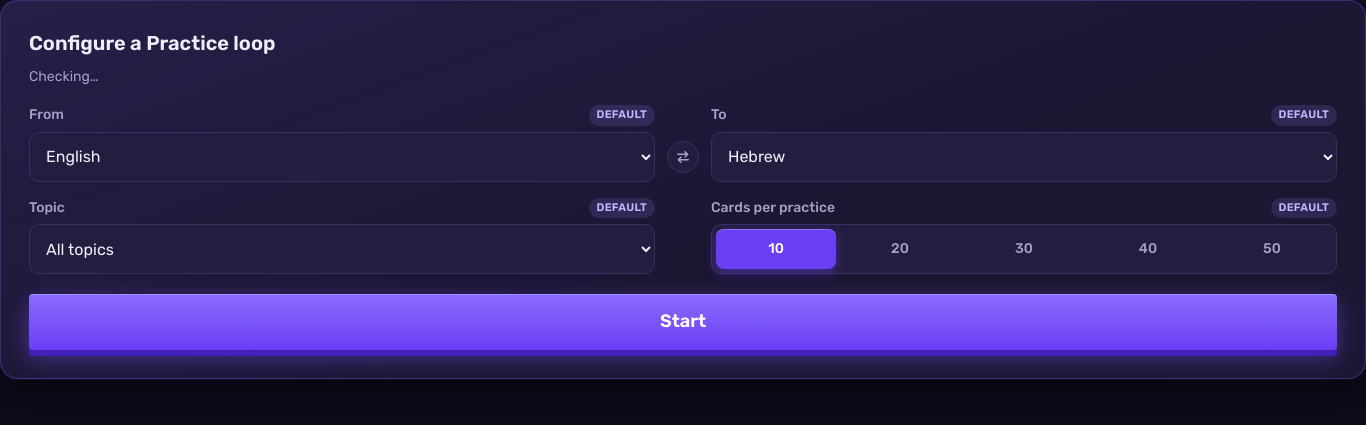
Scenario: StartCard › switches From and To, and disables the switch when they match (D-055)
Click the button named "Switch From and To" at (683, 156), box [667,140,699,172]
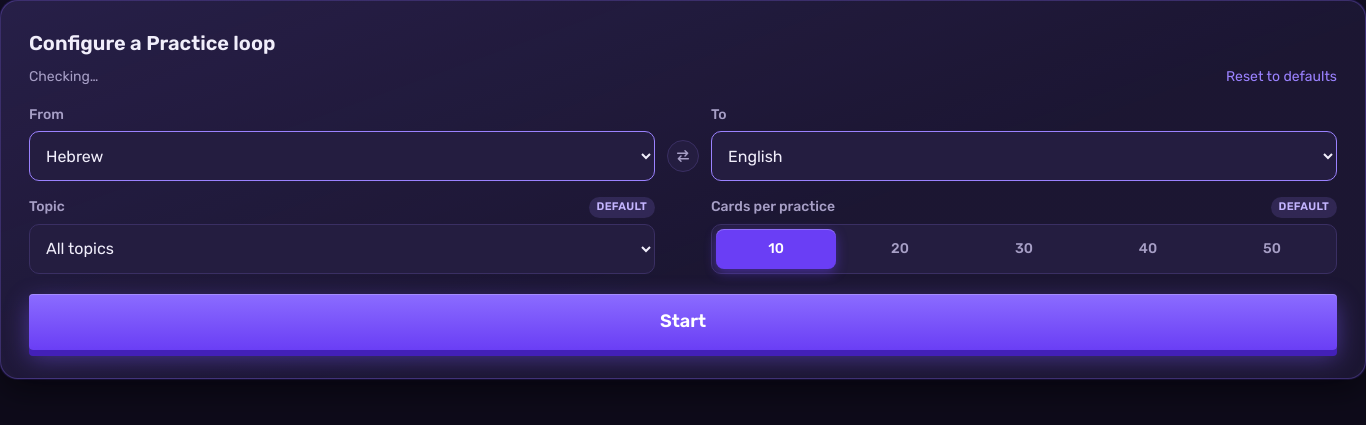
Select "Hebrew" in the dropdown labelled "To" at (1024, 156), box [711,131,1337,181]
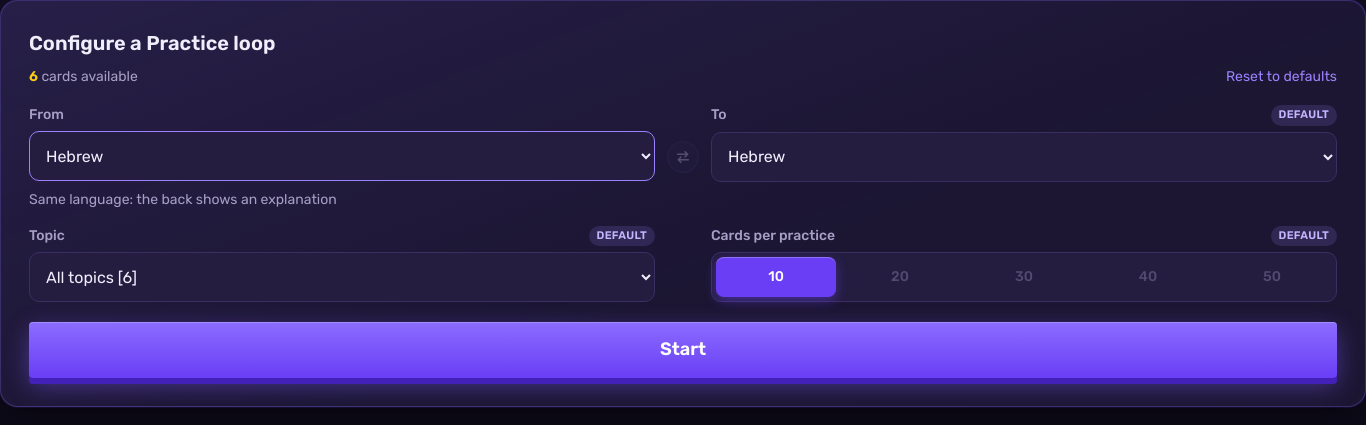
expect the button named "Switch From and To" is disabled: met, box [667,140,699,172]
